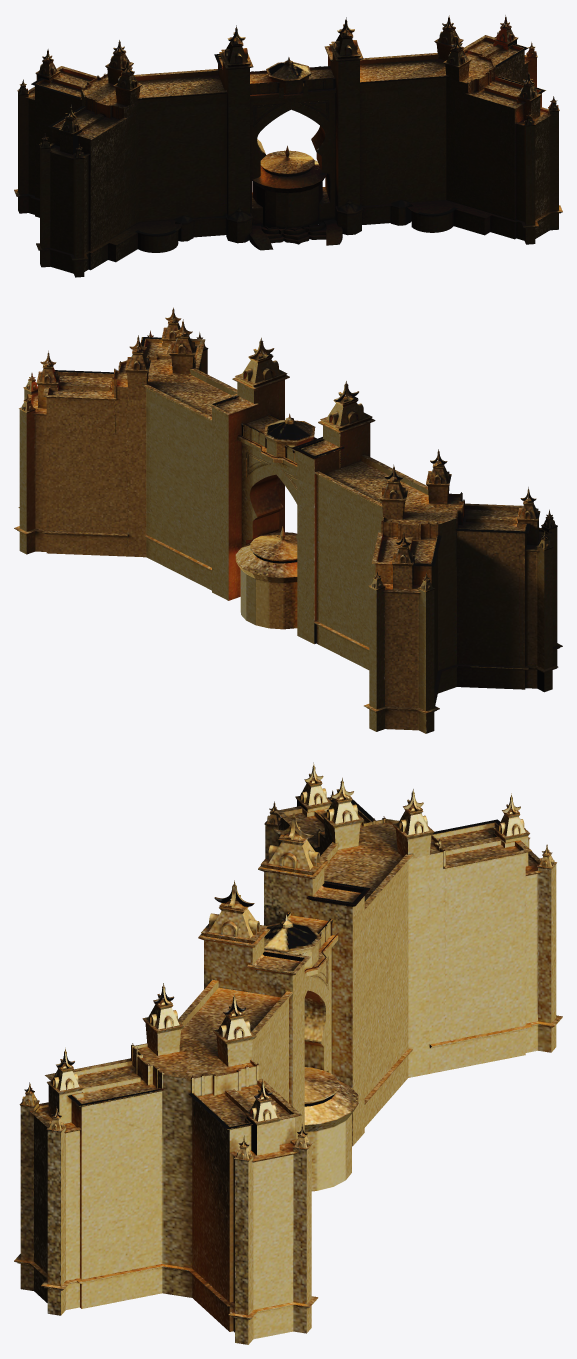
File: BG_BUILDING_CLOSE.fbx
3 views of the same model, one above another, from view 1: azimuth 30°, elevation 25°; view 2: azimuth 150°, elevation 25°; view 3: azimuth 270°, elevation 25° (orthographic). The views are drawn at different scales.
Parts seen in each view (by area): view 1: BG_BUILDING_CLOSE; view 2: BG_BUILDING_CLOSE; view 3: BG_BUILDING_CLOSE.
Boxes of the visible parts, x1,y1,x2,y2 form: BG_BUILDING_CLOSE: (14,15,562,277); BG_BUILDING_CLOSE: (14,307,562,733); BG_BUILDING_CLOSE: (14,762,562,1344).
Bounding box in the file's own units: 268 × 111 × 173.
1 material, 1 textured.
